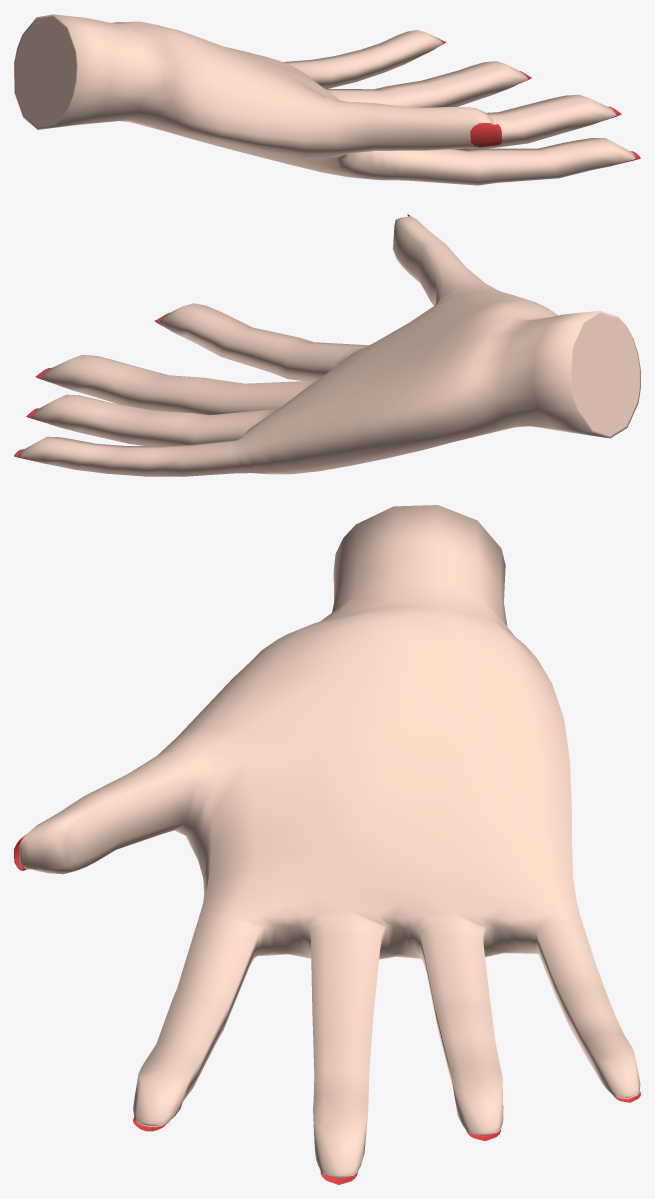
The model's file is Hand.fbx.
The picture shows the model from 3 angles, top to bottom: view 1: azimuth 30°, elevation 25°; view 2: azimuth 150°, elevation 25°; view 3: azimuth 270°, elevation 25°; orthographic projection. The views are drawn at different scales.
Parts seen in each view (by area): view 1: Hand; view 2: Hand; view 3: Hand.
Part boxes in pixels (x1=…): Hand: x1=14, y1=14, x2=640, y2=185; Hand: x1=14, y1=214, x2=640, y2=476; Hand: x1=14, y1=505, x2=640, y2=1184.
Size of the model in its own units: 239 by 85 by 158.
